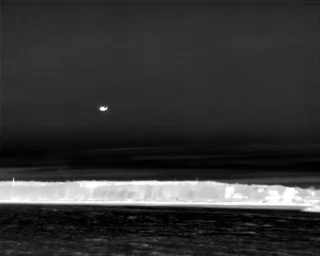HELICOPTER: (96, 102, 113, 118)
